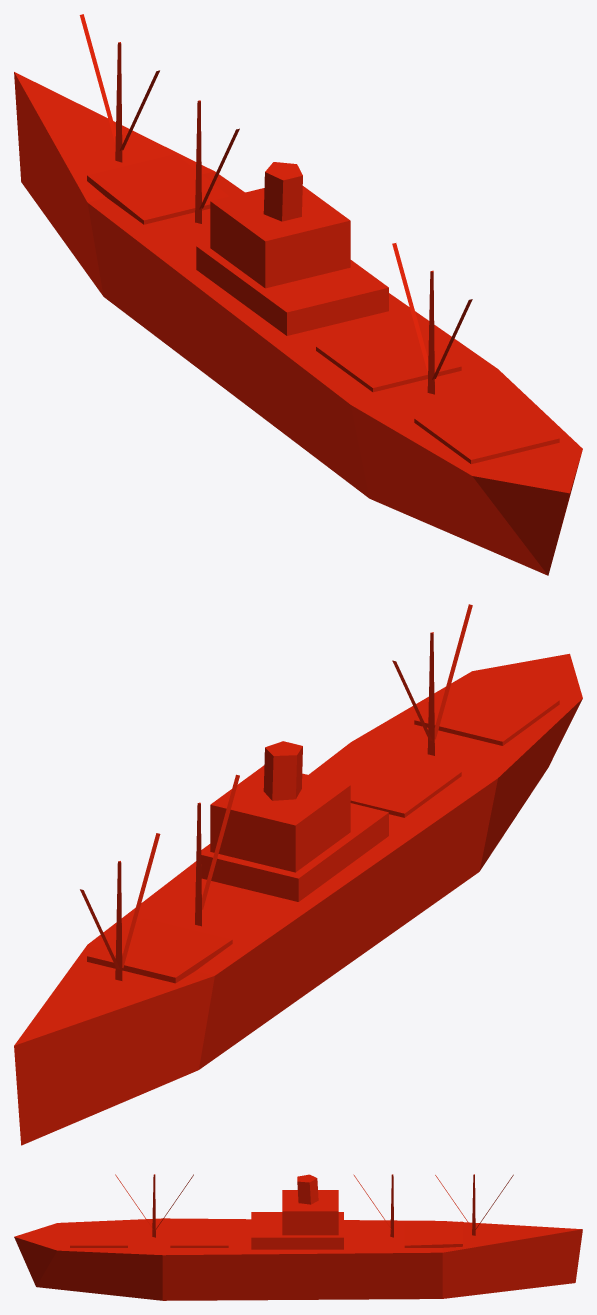
Rendered from cargoship.glb.
The picture shows the model from 3 angles, top to bottom: view 1: azimuth 30°, elevation 25°; view 2: azimuth 150°, elevation 25°; view 3: azimuth 270°, elevation 25°; orthographic projection. The views are drawn at different scales.
Parts seen in each view (by area): view 1: CargoShip; view 2: CargoShip; view 3: CargoShip.
Part boxes in pixels (x1,y1,x2,y2): CargoShip: [14, 14, 582, 575]; CargoShip: [14, 604, 582, 1145]; CargoShip: [14, 1174, 582, 1300].
Size of the model in its own units: 18.93 by 29.47 by 124.
